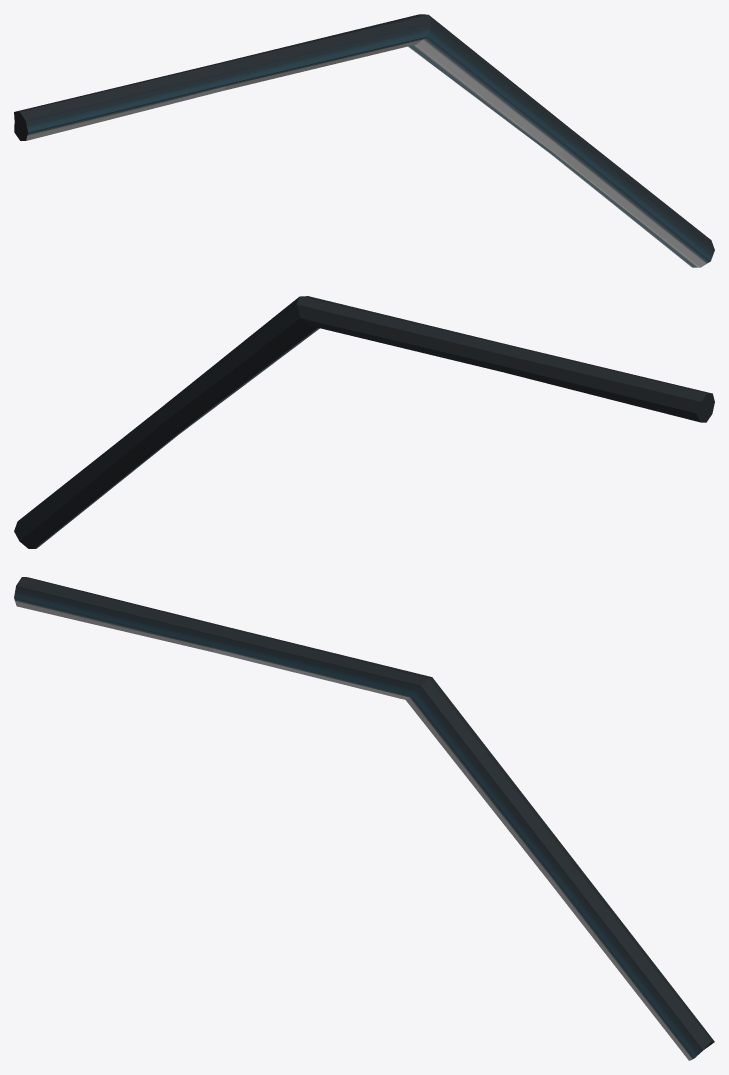
The model's file is pole_metal_03.fbx.
The picture shows the model from 3 angles, top to bottom: view 1: azimuth 30°, elevation 25°; view 2: azimuth 150°, elevation 25°; view 3: azimuth 330°, elevation 25°; orthographic projection.
Visible parts, largest first — view 1: mpole03; view 2: mpole03; view 3: mpole03.
Boxes of the visible parts, x1,y1,x2,y2 form: mpole03: (14,14,714,267); mpole03: (14,296,714,548); mpole03: (14,577,714,1060).
Bounding box in the file's own units: 7.02 × 0.2869 × 3.1.
